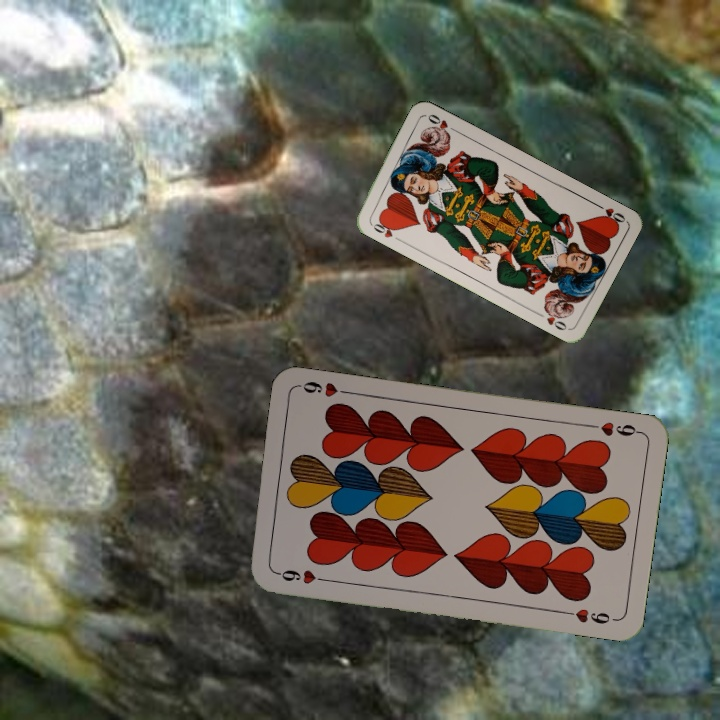H9: (584, 417, 643, 439), (271, 565, 330, 587)
HO: (590, 199, 628, 228), (366, 215, 403, 244)
